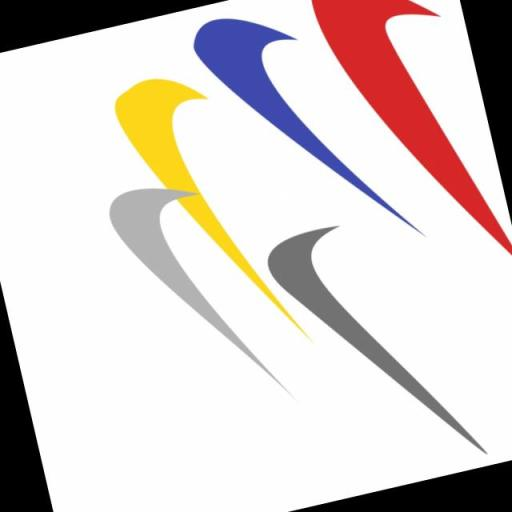Nike: (256, 198, 494, 496)
